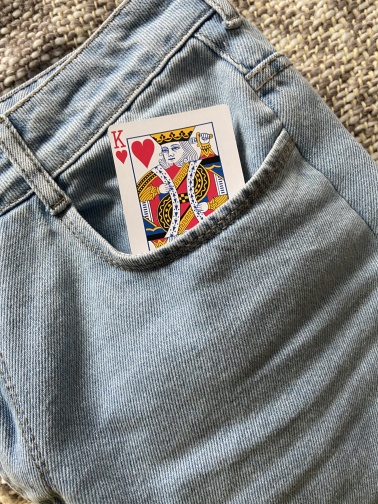king: (106, 102, 266, 305)
